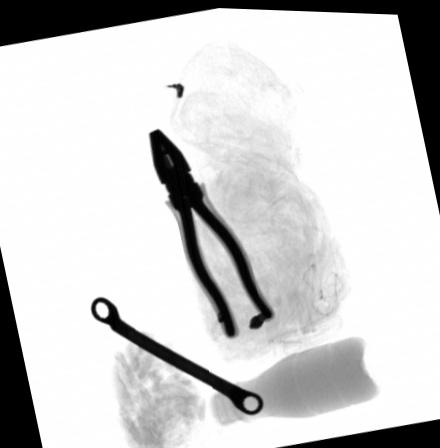Pliers: (146, 126, 275, 339)
Wrench: (89, 295, 263, 413)
